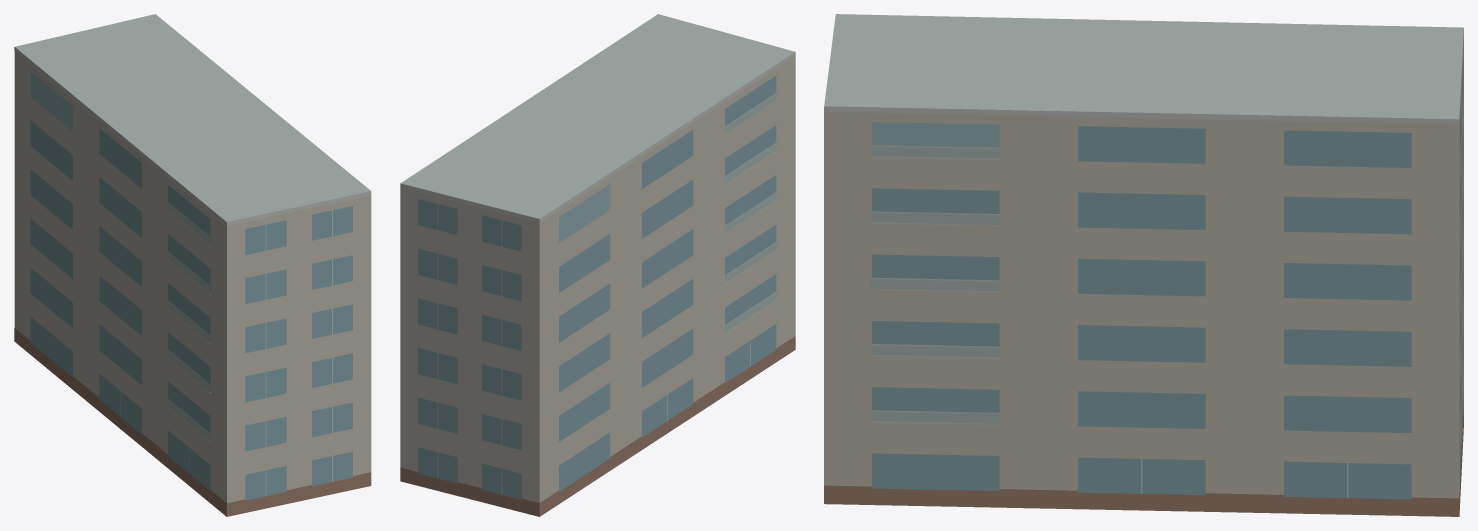
The model's file is survey-upis-32941231.glb.
3 renders of one model, left to right at view 1: azimuth 30°, elevation 25°; view 2: azimuth 150°, elevation 25°; view 3: azimuth 270°, elevation 25°, orthographic. The views are drawn at different scales.
Parts seen in each view (by area): view 1: survey-upis-32941231.tmp; view 2: survey-upis-32941231.tmp; view 3: survey-upis-32941231.tmp.
Boxes of the visible parts, <box> form: survey-upis-32941231.tmp: <box>14,14,371,516</box>; survey-upis-32941231.tmp: <box>400,14,795,516</box>; survey-upis-32941231.tmp: <box>824,14,1463,516</box>.
Size of the model in its own units: 10.05 by 17.7 by 25.81.
